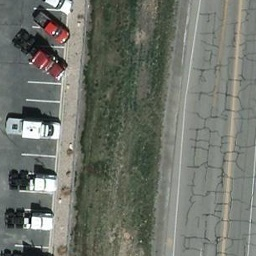car: (34, 9, 68, 42)
